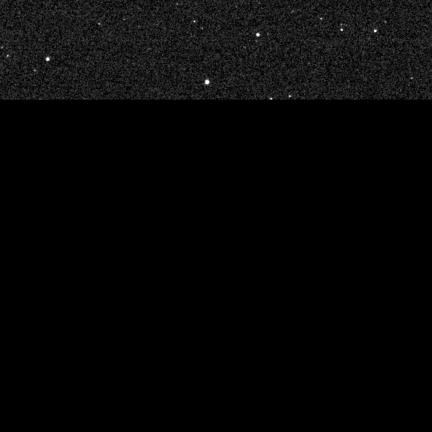blob: (205, 80, 209, 84), (46, 57, 49, 61), (374, 30, 378, 33), (257, 33, 260, 37), (289, 95, 292, 98), (341, 29, 344, 32), (320, 18, 323, 21), (7, 55, 9, 58), (270, 98, 273, 100), (194, 21, 196, 23)
